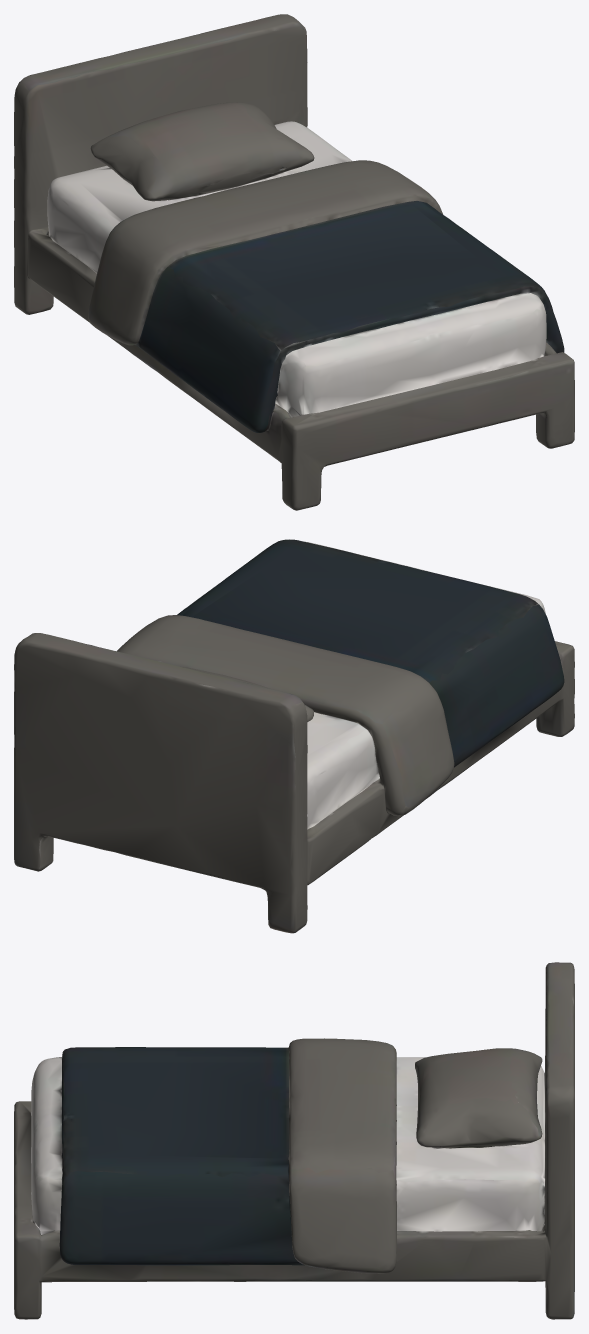
The model's file is bed.glb.
The picture shows the model from 3 angles, top to bottom: view 1: azimuth 30°, elevation 25°; view 2: azimuth 150°, elevation 25°; view 3: azimuth 270°, elevation 25°; orthographic projection.
Parts seen in each view (by area): view 1: geometry_0; view 2: geometry_0; view 3: geometry_0.
Boxes of the visible parts, bbox=[...] form: geometry_0: bbox=[14, 14, 574, 510]; geometry_0: bbox=[14, 539, 574, 933]; geometry_0: bbox=[14, 962, 574, 1319].
Size of the model in its own units: 0.6718 by 0.4502 by 1.
Materials: 1 (1 with a texture image).
